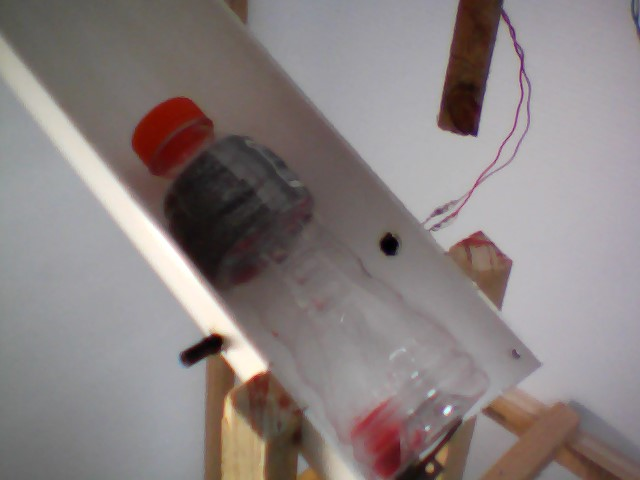plastico: (126, 94, 496, 480)
